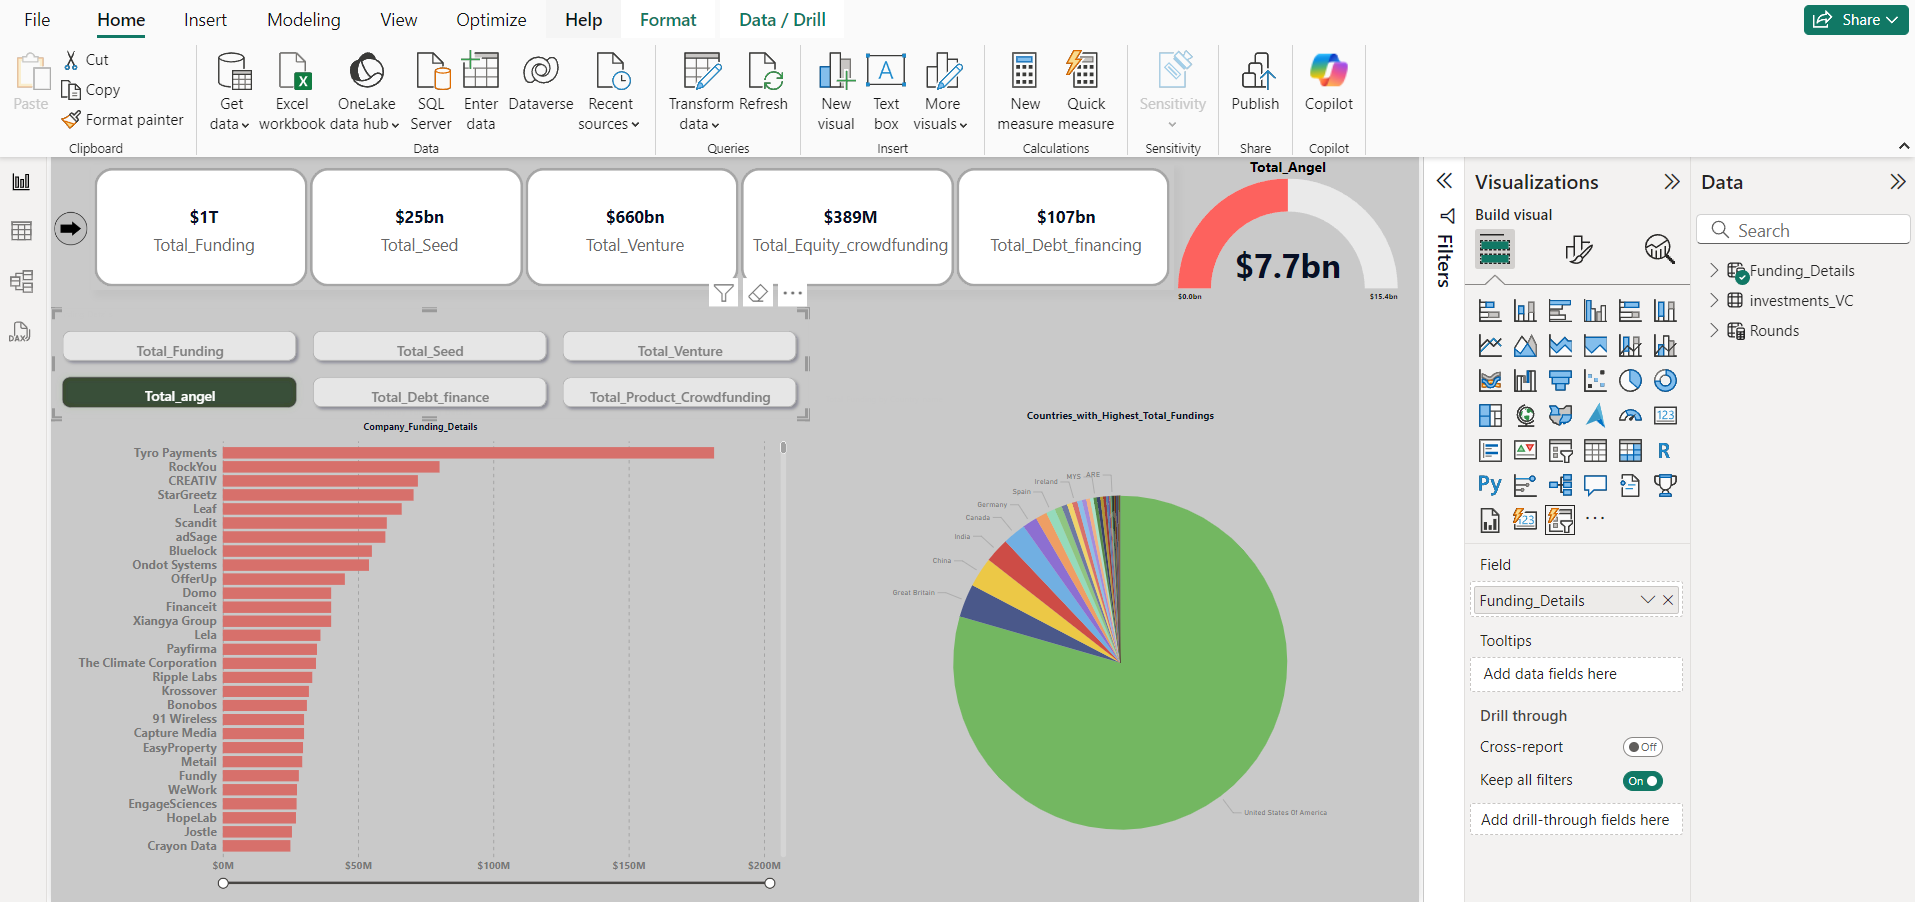

What the dashboard file says about the page in this screenshot:
{"tool":"powerbi","page":{"name":"Page 1","canvas":[1980,1080],"ordinal":0},"visuals":[{"type":"cardVisual","fields":{"Data":["investments_VC.Total_Funding","Sum(investments_VC.Seed)","Sum(investments_VC.Venture)","Sum(investments_VC.Equity_crowdfunding)","Sum(investments_VC.Debt_financing)"]},"box":[57.5,10,1567.5,182.5],"z":0},{"type":"gauge","title":"Total_Angel","fields":{"Y":["Sum(investments_VC.angel)"]},"box":[1602.4,0,378.6,219],"z":1000},{"type":"barChart","title":"Company_Funding_Details","fields":{"Y":["investments_VC.Total_Funding"],"Category":["investments_VC.Company_name"]},"box":[0,360.1,1069.5,702.1],"z":2000},{"type":"advancedSlicerVisual","fields":{"Values":["Funding_Details.Funding_Details"]},"box":[0,218.6,1097.4,161.3],"z":3000},{"type":"pieChart","fields":{"Category":["investments_VC.Country_name"],"Y":["investments_VC.Total_Funding"]},"box":[1116.6,342,863.2,738.3],"z":4000},{"type":"image","box":[0,62.5,57.5,80],"z":5000}]}

Visuals, with their boxes on the page's 1980x1080 design canvas (x1, y1, x2, y2). These are canvas units, not pixel positions in the 1915x902 screenshot, which may show the page scaled, cropped or inside an application window:
cardVisual - investments_VC.Total_Funding x Sum(investments_VC.Seed): Rect(58, 10, 1625, 192)
"Total_Angel" gauge: Rect(1602, 0, 1981, 219)
"Company_Funding_Details" barChart: Rect(0, 360, 1070, 1062)
advancedSlicerVisual - Funding_Details.Funding_Details: Rect(0, 219, 1097, 380)
pieChart - investments_VC.Country_name x investments_VC.Total_Funding: Rect(1117, 342, 1980, 1080)
image: Rect(0, 62, 58, 142)
